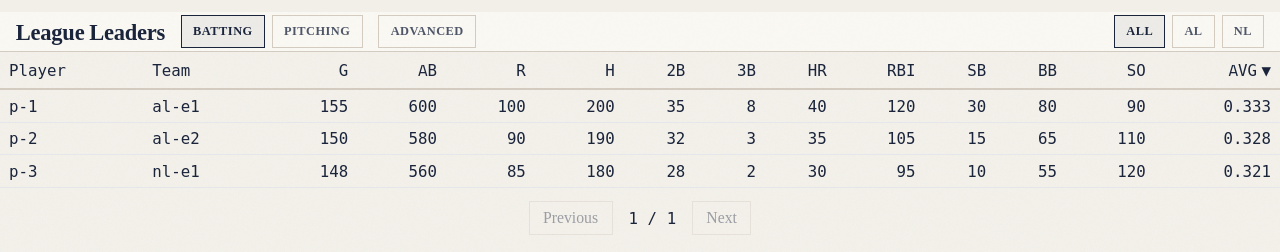
Scenario: StatsPage › clicking toggle switches to advanced view with OPS column
Click the button with aria-label "Toggle stat view": (427, 32) 378,16 -> 476,48
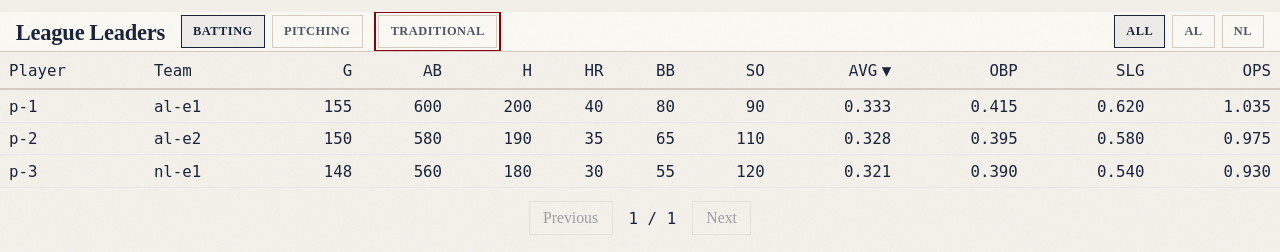
Check: the column heading "OPS" is shown, box 1153,52 -> 1279,89
Check: the button with aria-label "Toggle stat view" reads "Traditional", box 378,16 -> 497,48
